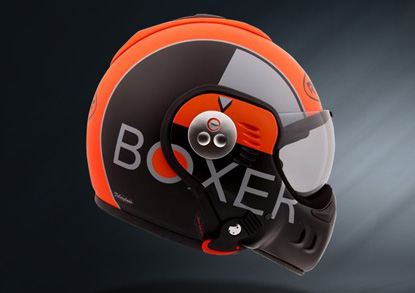helmet: (98, 24, 336, 268)
